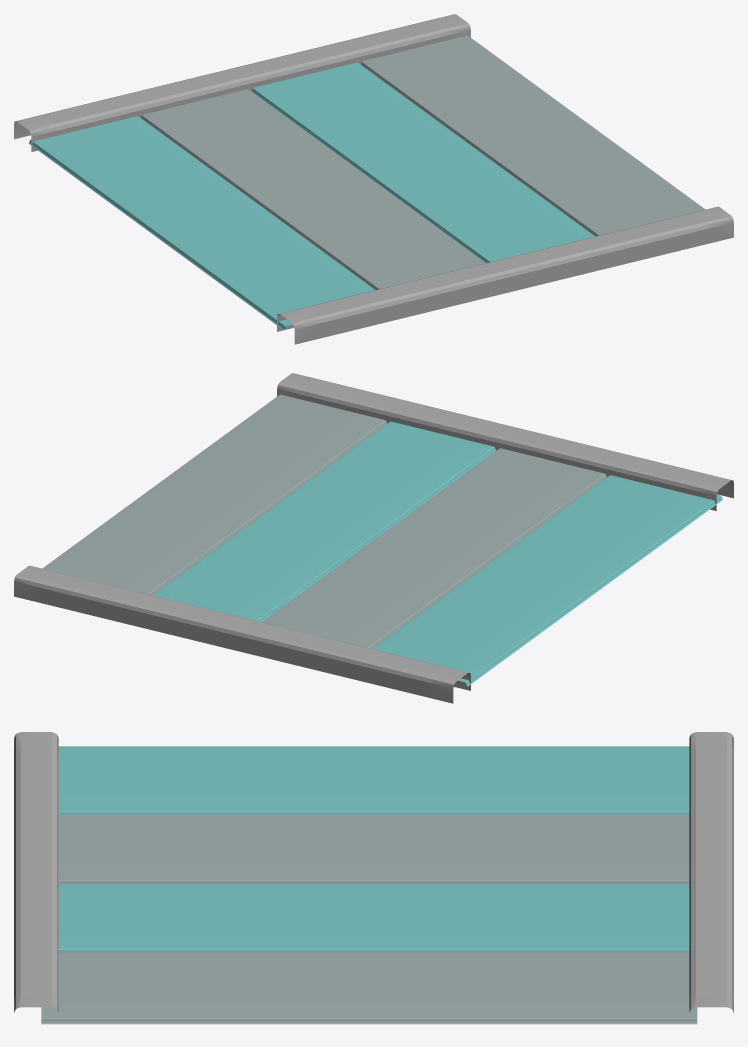
Rendered from floor_straight.fbx.
3 renders of one model, top to bottom at view 1: azimuth 30°, elevation 25°; view 2: azimuth 150°, elevation 25°; view 3: azimuth 270°, elevation 25°, orthographic. The views are drawn at different scales.
Parts seen in each view (by area): view 1: section_01; view 2: section_01; view 3: section_01.
Part boxes in pixels (x1,y1,x2,y2): section_01: [14, 14, 733, 344]; section_01: [14, 373, 733, 703]; section_01: [14, 732, 733, 1024].
Size of the model in its own units: 400 by 17.35 by 442.
